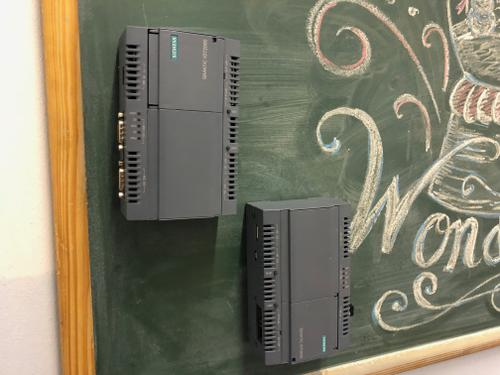device: (117, 25, 240, 220), (245, 196, 353, 365)
